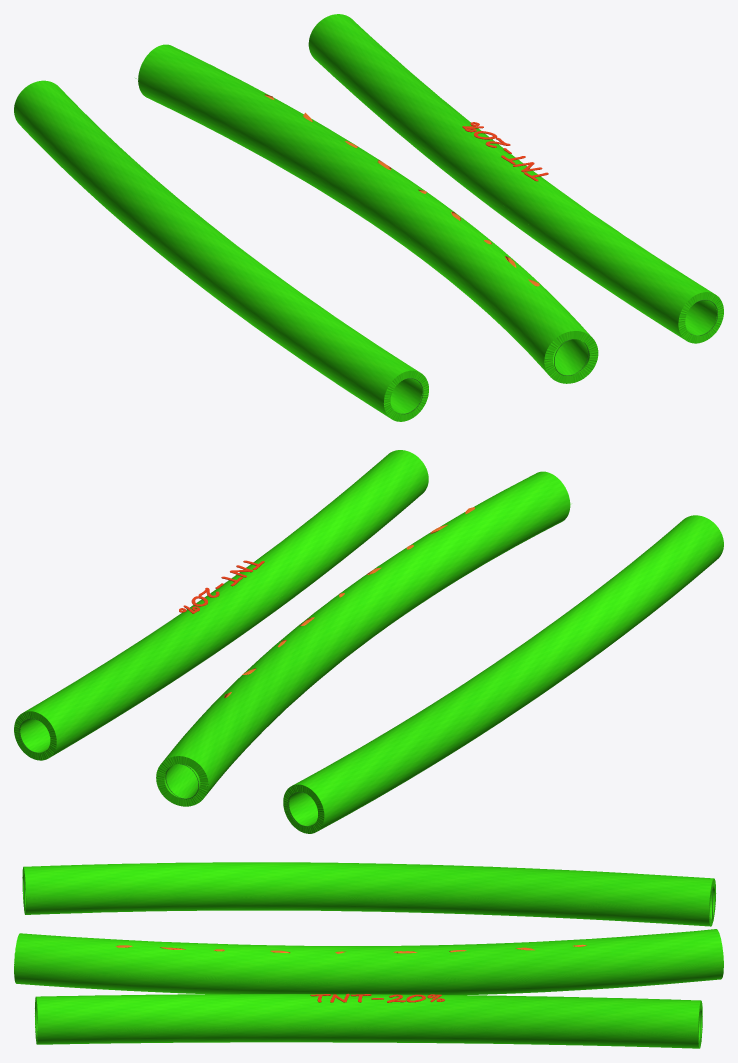
File: product-21-petrol-pipe.glb
3 views of the same model, one above another, from view 1: azimuth 30°, elevation 25°; view 2: azimuth 150°, elevation 25°; view 3: azimuth 270°, elevation 25° (orthographic). The views are drawn at different scales.
Parts seen in each view (by area): view 1: tube-01-plain, red-handwritten-TNT-20-percent; view 2: tube-01-plain, red-handwritten-TNT-20-percent; view 3: tube-01-plain, red-handwritten-TNT-20-percent, orange-hand-mark-00.
Part boxes in pixels (<box>): tube-01-plain: <box>14,14,723,421</box>; red-handwritten-TNT-20-percent: <box>462,122,548,181</box>; tube-01-plain: <box>14,450,723,833</box>; red-handwritten-TNT-20-percent: <box>179,560,264,613</box>; tube-01-plain: <box>14,862,723,1048</box>; red-handwritten-TNT-20-percent: <box>310,993,444,1002</box>; orange-hand-mark-00: <box>115,944,586,953</box>.
Size of the model in its own units: 0.1547 by 0.022 by 0.294.
4 materials, 1 textured.
